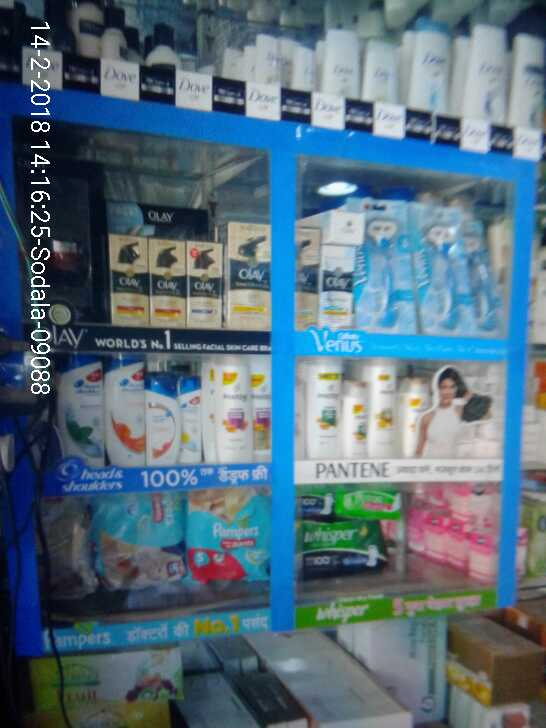venus: (414, 211, 465, 334), (361, 211, 414, 323), (465, 213, 495, 334)
